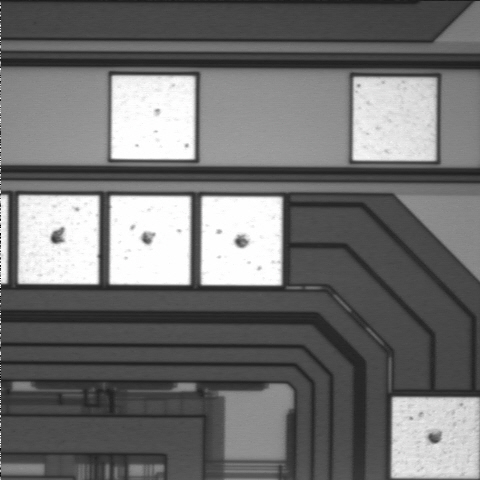pad: (109, 196, 191, 285), (18, 195, 99, 284), (201, 196, 282, 285), (111, 76, 195, 160), (353, 77, 436, 161)
